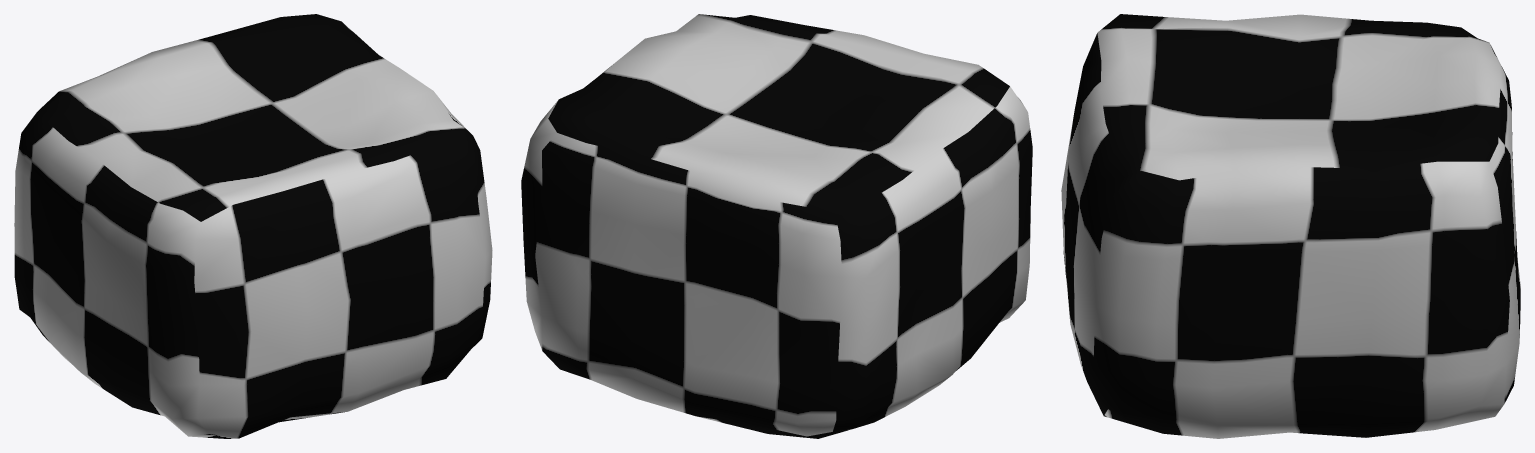
The model's file is icecube.obj.
3 renders of one model, left to right at view 1: azimuth 30°, elevation 25°; view 2: azimuth 150°, elevation 25°; view 3: azimuth 270°, elevation 25°, orthographic. The views are drawn at different scales.
Visible parts, largest first — view 1: lowpoly; view 2: lowpoly; view 3: lowpoly.
Part boxes in pixels (x1,y1,x2,y2): lowpoly: (14, 14, 492, 438); lowpoly: (521, 14, 1032, 438); lowpoly: (1061, 14, 1520, 438).
Bounding box in the file's own units: 201 × 140 × 196.
Materials: 1 (1 with a texture image).
